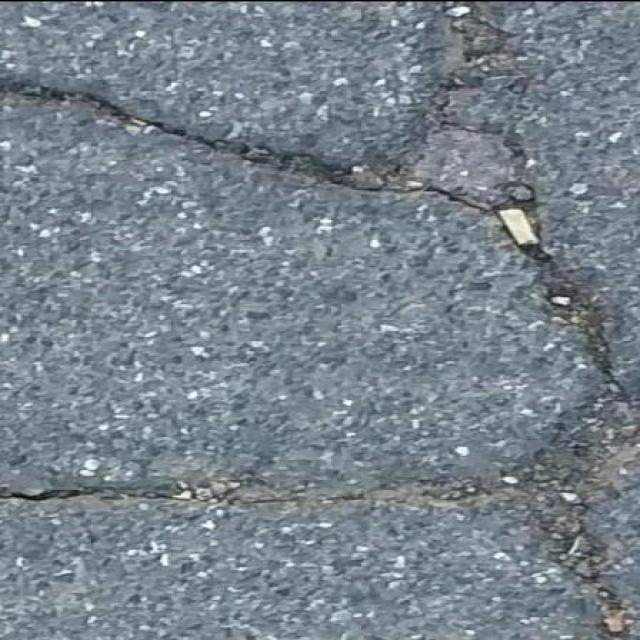Crack: (0, 0, 536, 212), (522, 374, 640, 640), (496, 184, 612, 374), (0, 480, 341, 505), (538, 262, 612, 374), (386, 480, 509, 496)
